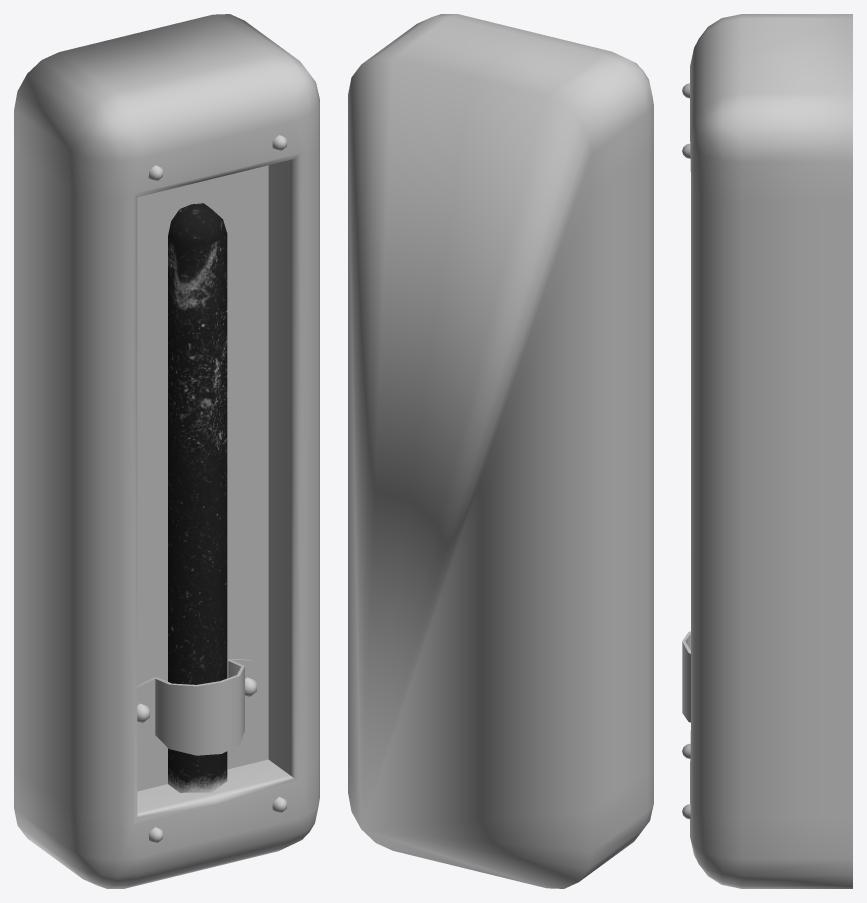
Rendered from Thermometer 2.fbx.
The picture shows the model from 3 angles, left to right: view 1: azimuth 30°, elevation 25°; view 2: azimuth 150°, elevation 25°; view 3: azimuth 270°, elevation 25°; orthographic projection.
Visible parts, largest first — view 1: AST_restaurant_Thermomètre.001; view 2: AST_restaurant_Thermomètre.001; view 3: AST_restaurant_Thermomètre.001.
Part boxes in pixels (<box>): AST_restaurant_Thermomètre.001: <box>14,14,319,888</box>; AST_restaurant_Thermomètre.001: <box>348,14,653,888</box>; AST_restaurant_Thermomètre.001: <box>682,14,852,888</box>.
Bounding box in the file's own units: 9.5 × 29.49 × 5.78.
